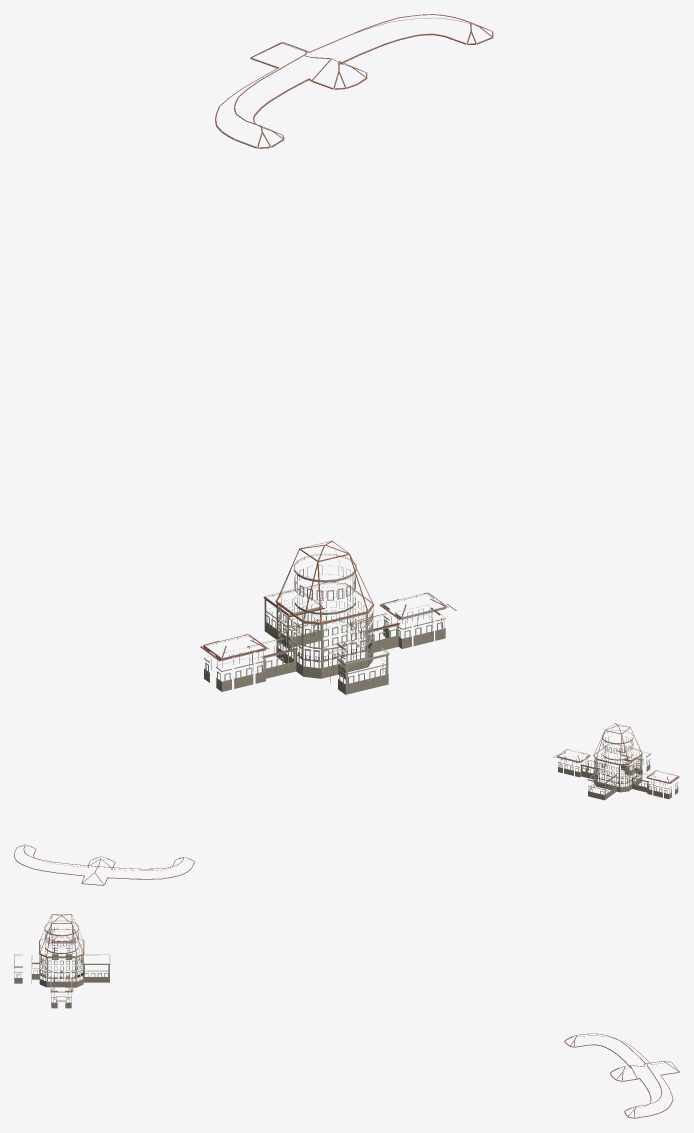
3 views of the same model, one above another, from view 1: azimuth 30°, elevation 25°; view 2: azimuth 150°, elevation 25°; view 3: azimuth 270°, elevation 25° (orthographic). The views are drawn at different scales.
Visible parts, largest first — view 1: detail; view 2: detail; view 3: detail.
Part boxes in pixels (<box>): detail: <box>200,14,493,694</box>; detail: <box>14,723,679,885</box>; detail: <box>14,914,679,1118</box>.
Size of the model in its own units: 216 by 29.41 by 281.
